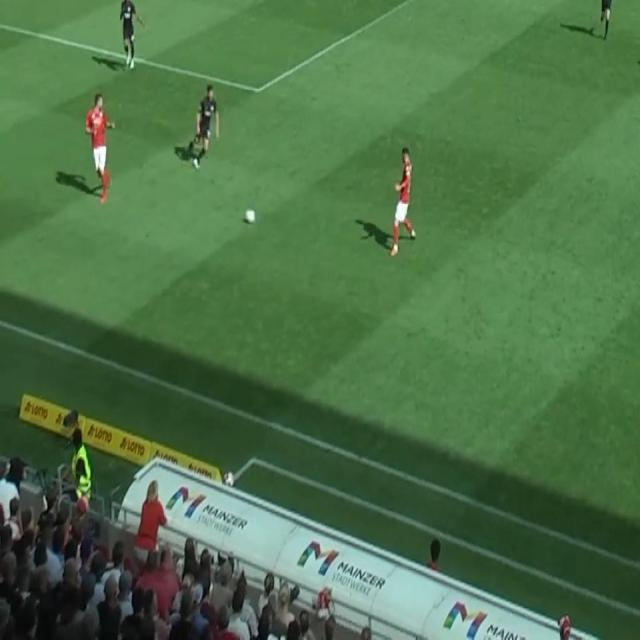ball: (245, 208, 256, 225)
